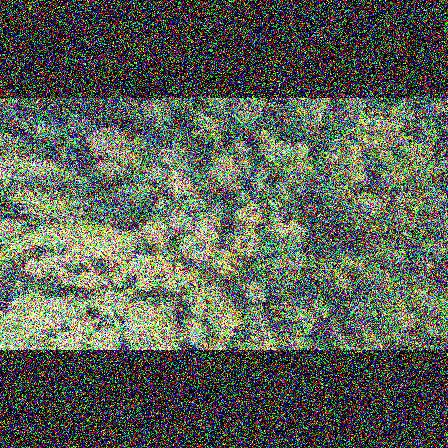Dead: (319, 313, 350, 349)
